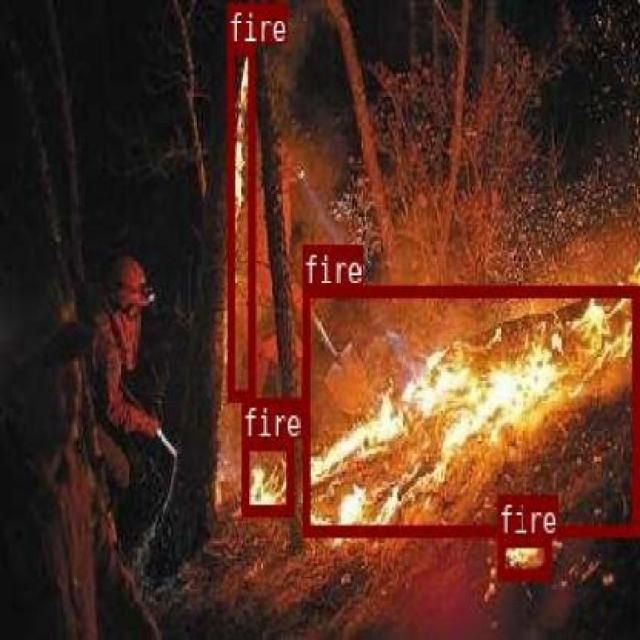fire: (300, 285, 637, 533), (226, 41, 254, 398), (240, 438, 292, 514), (496, 535, 550, 577)
